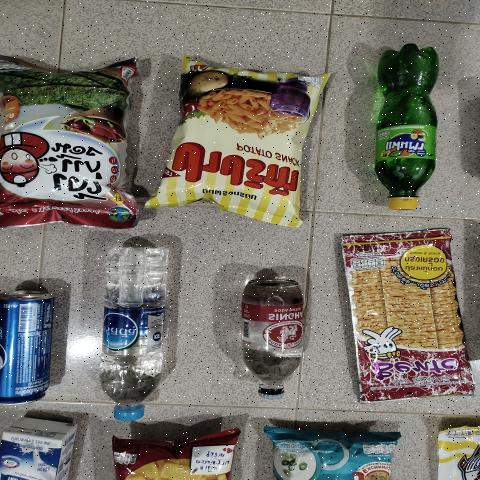bento_red: (0, 51, 146, 227), (340, 235, 476, 401)
crystal: (106, 241, 167, 422)
fanta_green: (369, 43, 436, 214)
paprika: (171, 54, 314, 215)
singha_soda: (240, 270, 305, 400)
